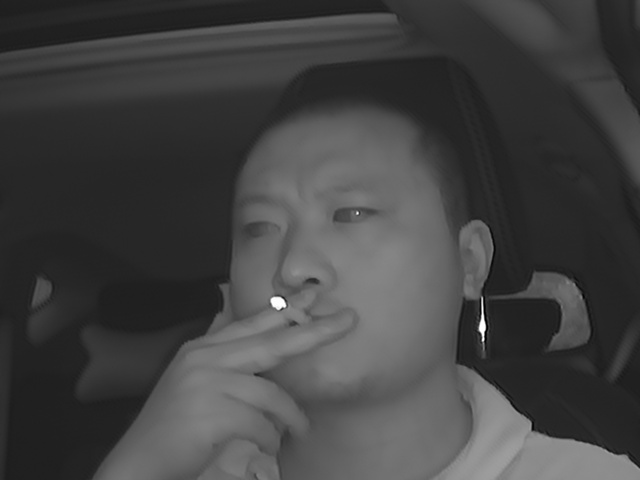hand: (193, 291, 355, 460)
